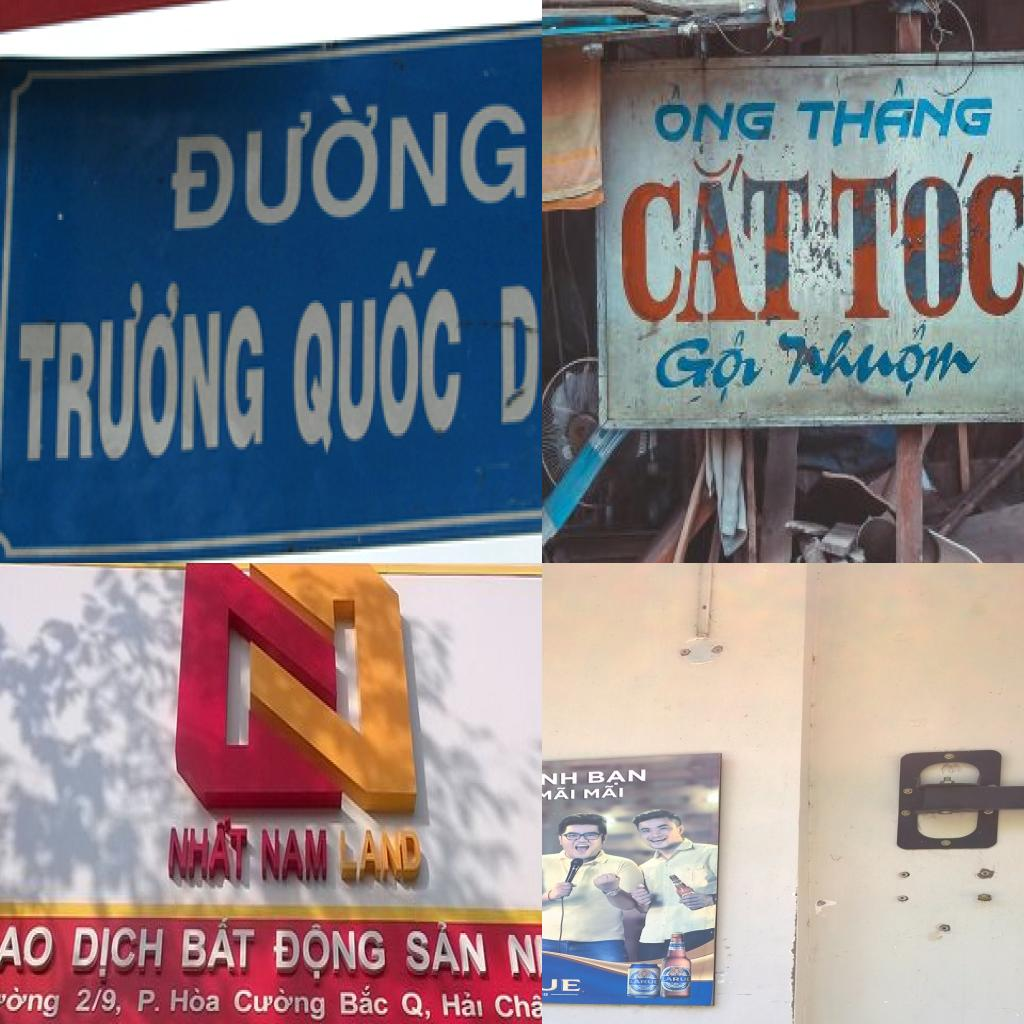text: (168, 82, 535, 236), (16, 281, 270, 472), (290, 242, 469, 464), (823, 148, 1024, 326), (617, 150, 815, 326), (223, 593, 362, 756), (776, 320, 988, 402), (790, 70, 1002, 150), (646, 76, 780, 152), (650, 332, 767, 408), (272, 922, 389, 982), (168, 811, 250, 882), (70, 928, 166, 982), (404, 920, 489, 976), (340, 828, 427, 882), (181, 914, 257, 971), (262, 826, 328, 884), (234, 982, 326, 1022), (401, 984, 484, 1024), (0, 923, 57, 971), (136, 986, 222, 1015), (505, 919, 542, 980), (0, 984, 61, 1020), (338, 984, 390, 1017), (493, 992, 542, 1024), (74, 988, 124, 1019), (586, 768, 651, 786), (580, 784, 627, 800), (542, 769, 580, 788), (542, 976, 584, 991), (542, 785, 576, 801), (662, 975, 692, 982), (627, 979, 660, 985), (542, 992, 549, 996), (671, 947, 681, 949)
